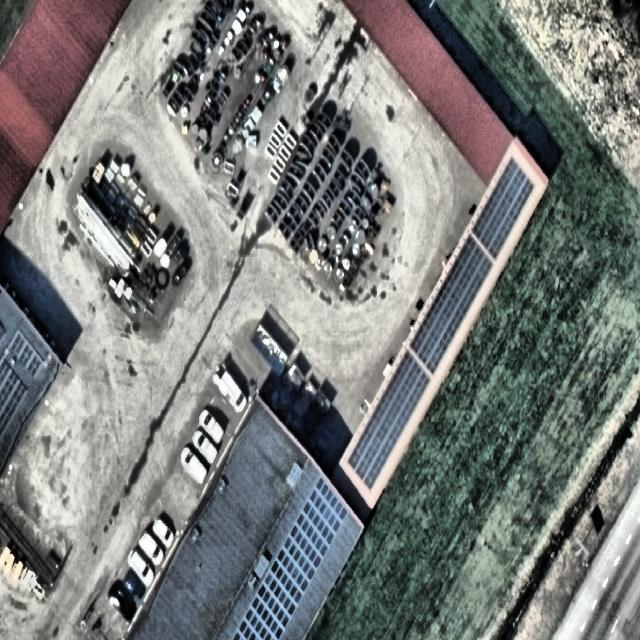roof_pv: (280, 475, 350, 608), (470, 154, 537, 258), (384, 337, 440, 447), (343, 398, 399, 502), (446, 223, 498, 331), (410, 282, 458, 375), (236, 568, 297, 640), (0, 345, 25, 438), (10, 330, 43, 379)
